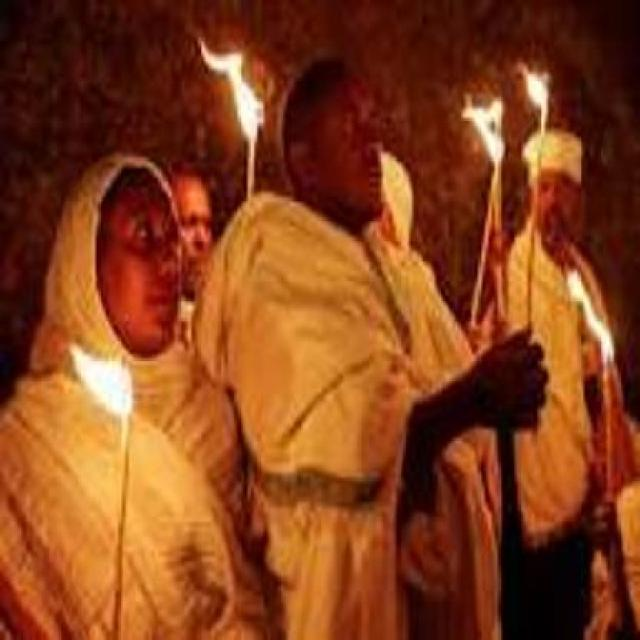Fire: (184, 26, 268, 146), (556, 268, 622, 362), (76, 334, 138, 426), (468, 93, 505, 163), (520, 68, 558, 108)
